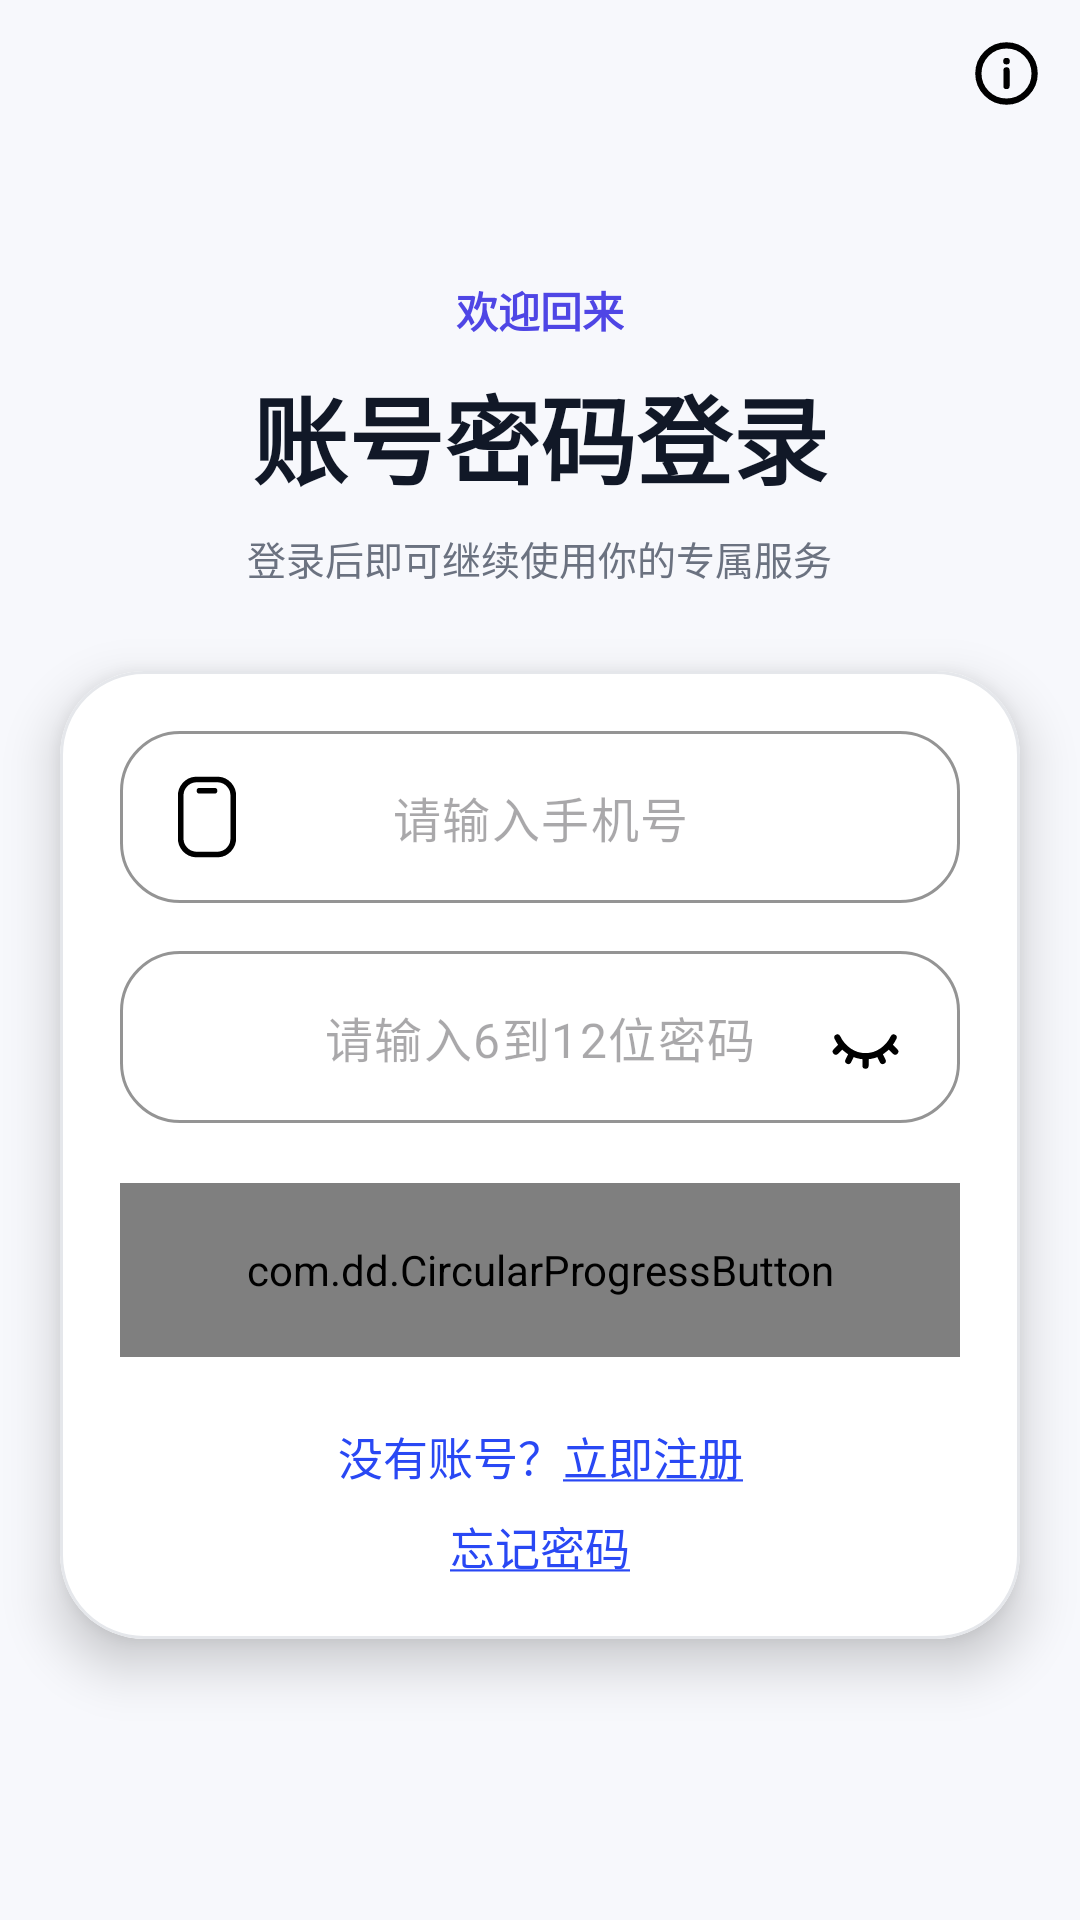

Screen size 1080 × 1920. Icon name, then its box in pixels as {"left": x1, "top": y1, "right": x2, "bottom": y2}:
info: {"left": 975, "top": 42, "right": 1038, "bottom": 105}
phone: {"left": 178, "top": 776, "right": 236, "bottom": 858}
切换密码可见性: {"left": 832, "top": 1034, "right": 899, "bottom": 1069}
